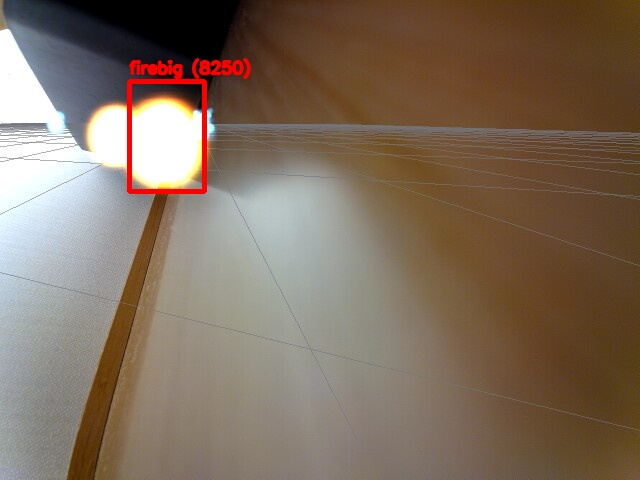firebig: (129, 81, 204, 191)
